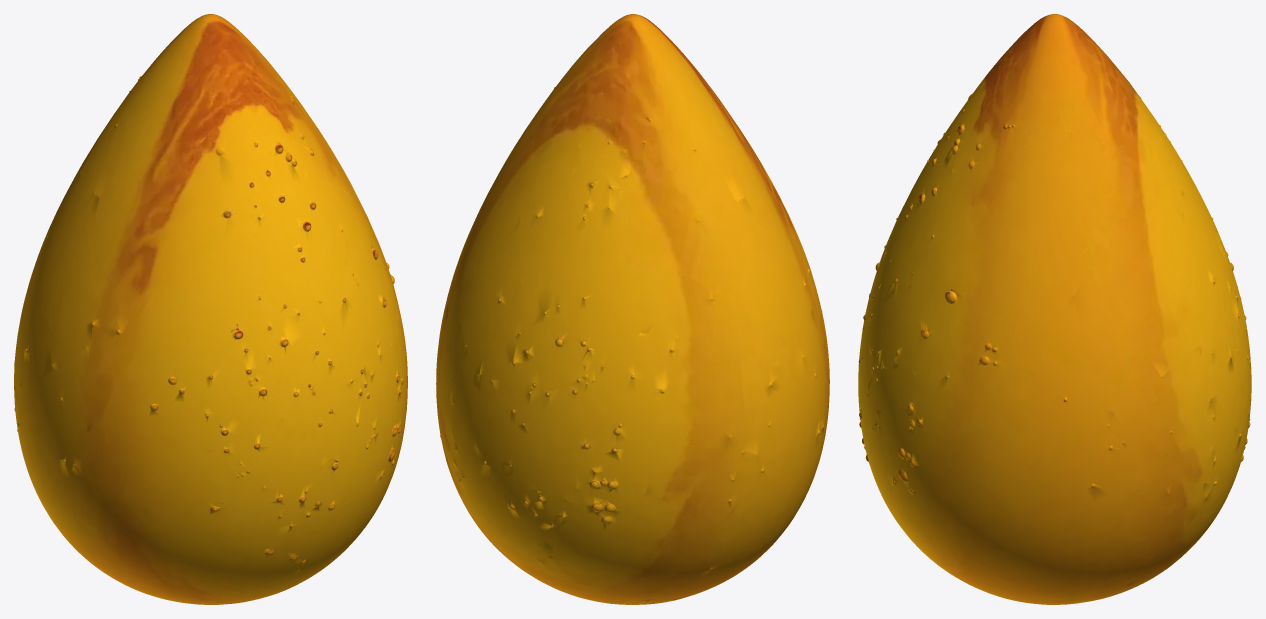
3 views of the same model, side by side, from view 1: azimuth 30°, elevation 25°; view 2: azimuth 150°, elevation 25°; view 3: azimuth 270°, elevation 25° (orthographic).
Visible parts, largest first — view 1: Mesh_0; view 2: Mesh_0; view 3: Mesh_0.
Part boxes in pixels (x1,y1,x2,y2): Mesh_0: [14, 14, 407, 604]; Mesh_0: [436, 14, 829, 604]; Mesh_0: [858, 14, 1251, 604].
Bounding box in the file's own units: 1.19 × 1.9 × 1.19.
Materials: 1 (1 with a texture image).
